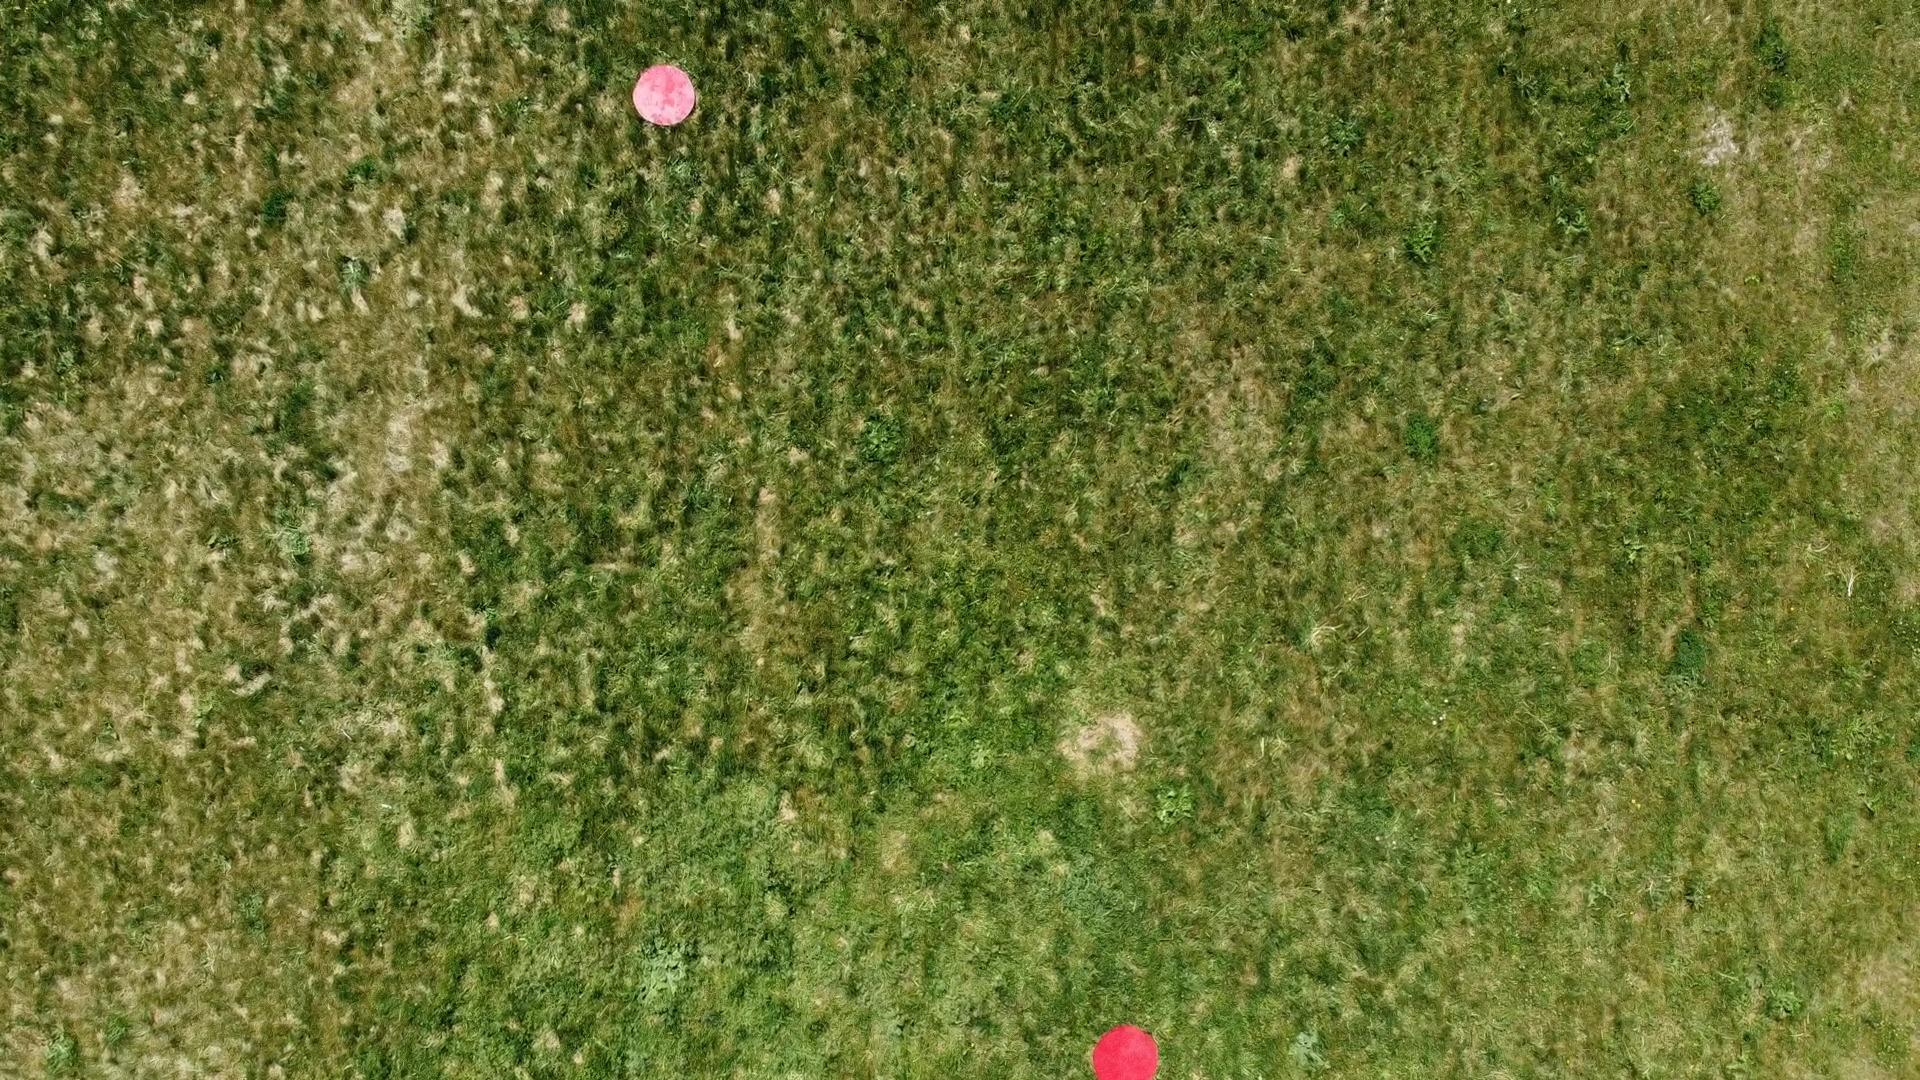Red: (630, 62, 699, 129), (1092, 1022, 1162, 1080)
